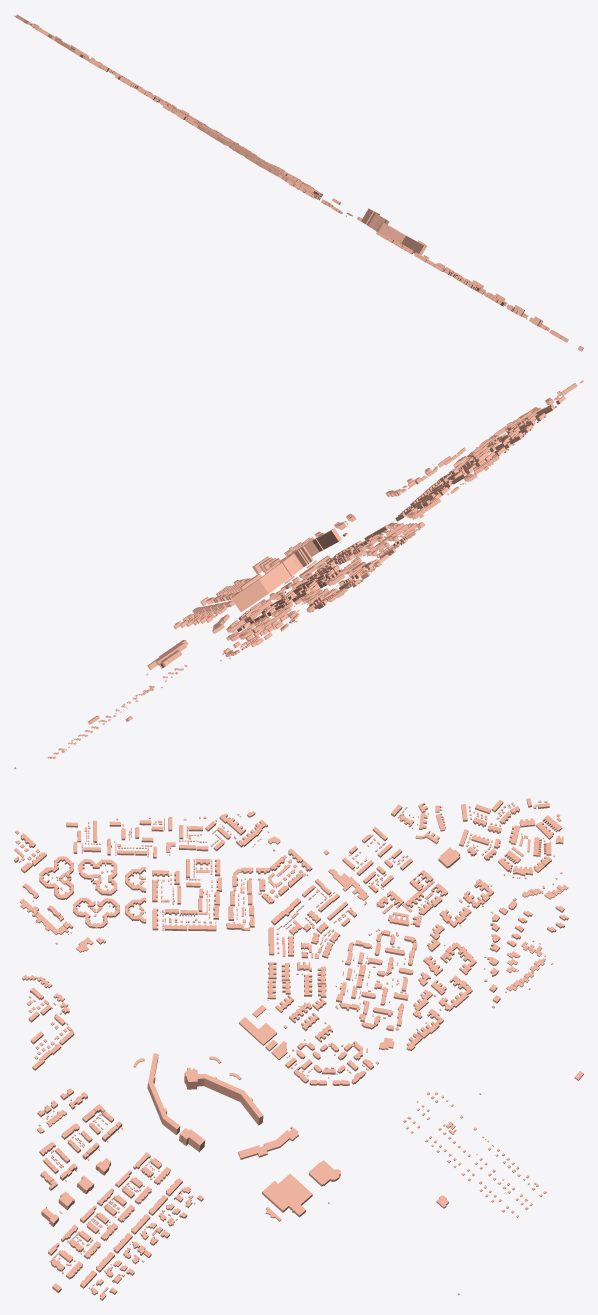
3 views of the same model, one above another, from view 1: azimuth 30°, elevation 25°; view 2: azimuth 150°, elevation 25°; view 3: azimuth 270°, elevation 25° (orthographic). The views are drawn at different scales.
Bounding box in the file's own units: 1020 × 750 × 1245.
